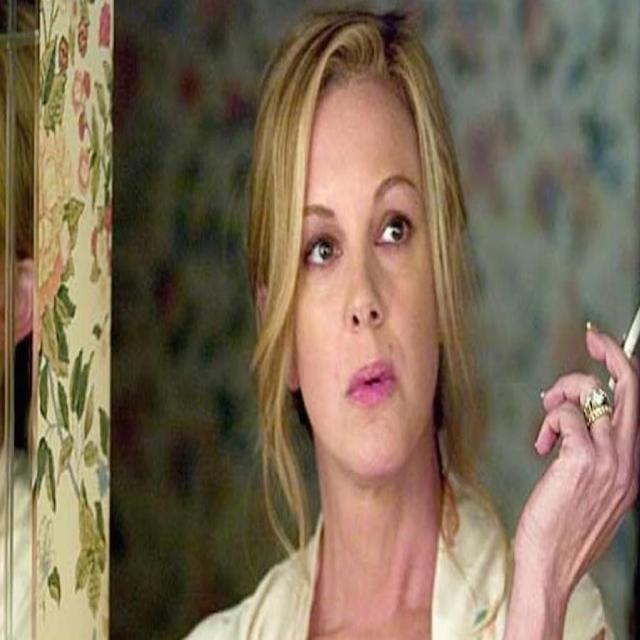smoking: (250, 2, 640, 562)
